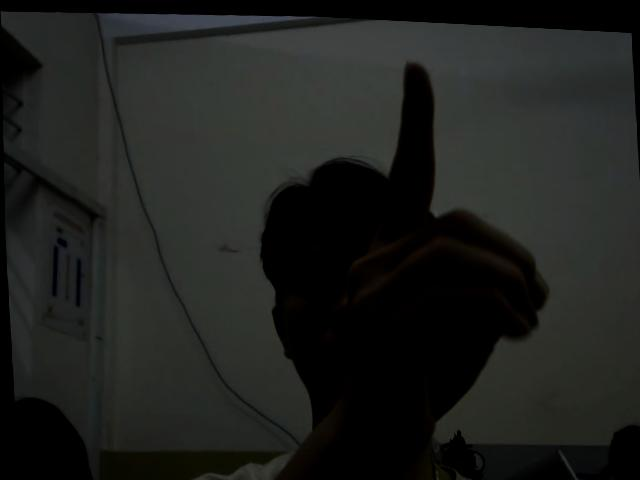D: (328, 46, 559, 463)
